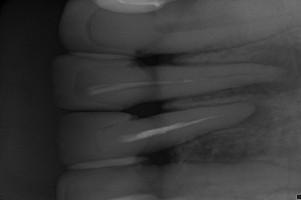Furcation Involvement: (191, 43, 301, 102), (187, 103, 277, 163)
